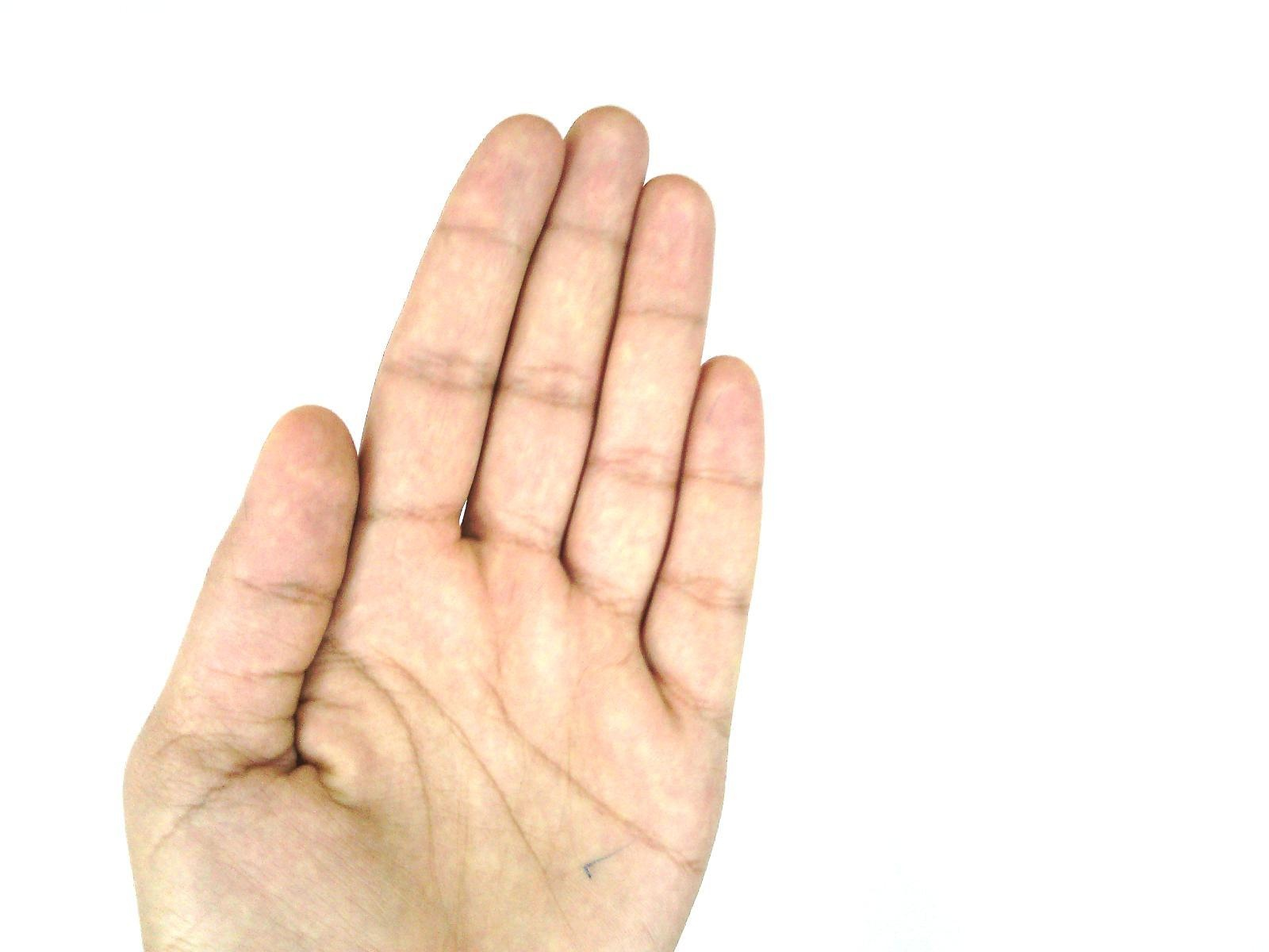open_palm: (121, 104, 769, 952)
